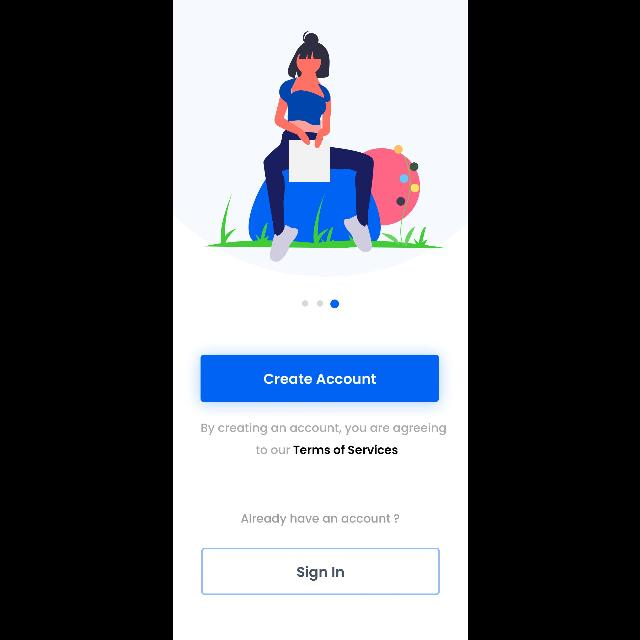image: (204, 30, 446, 262)
pageindicator: (301, 300, 339, 308)
text: (200, 422, 446, 454), (240, 514, 400, 526)
textbutton: (200, 354, 438, 402), (200, 548, 440, 594)
